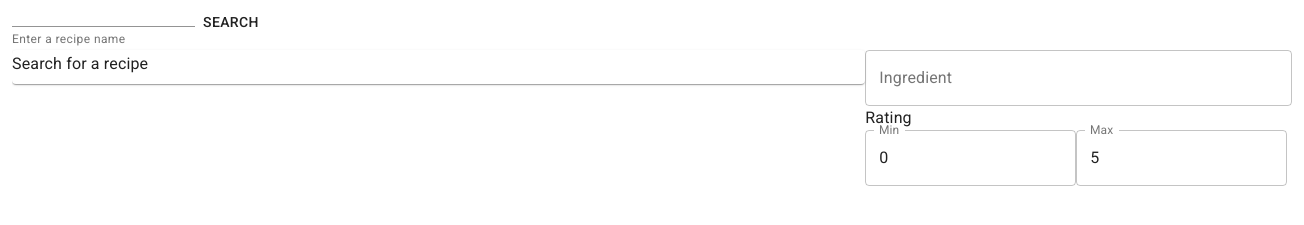
Test: tests for RecipeBrowser › tests for BrowserSearchOptions › if ratingMin is out of range [0,5]  an error will be displayed
The width and height of the screenshot is (1304, 225).
Replace the text in the field with test id "minRatingInput" with "-1": (971, 158) 865,130 -> 1076,186
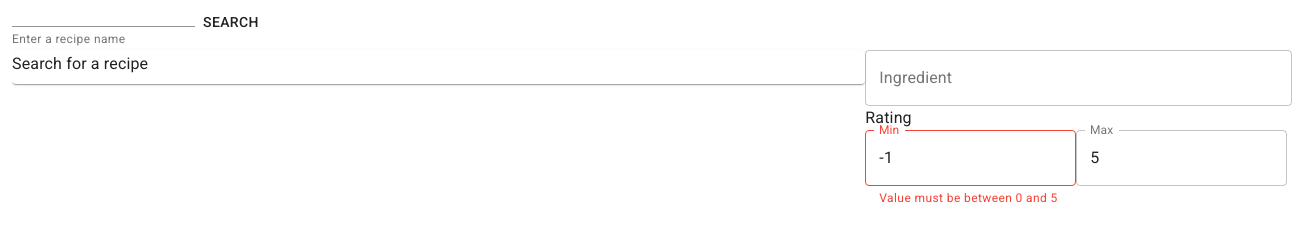
Expected: the text "Value must be between 0 and 5" is shown, 879,189 -> 1062,209
